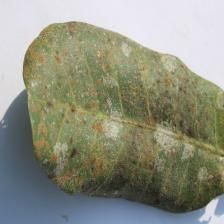red rust: (22, 20, 224, 214)
